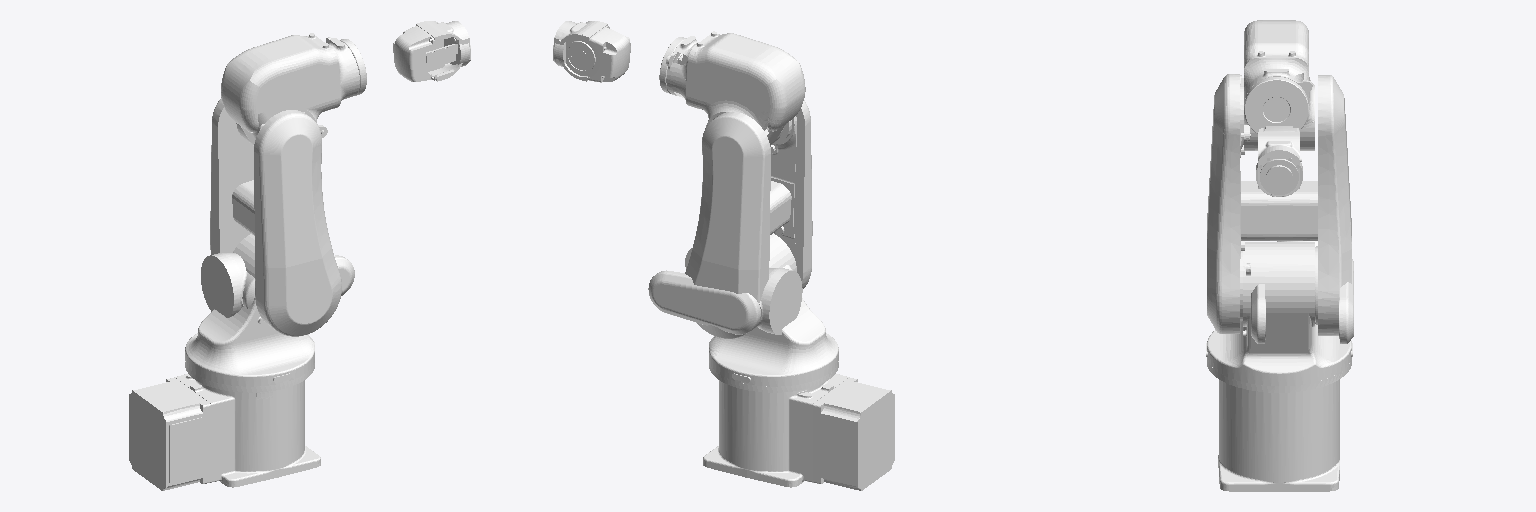
The robot description file, URDF, robot "er3":
<?xml version="1.0" ?>
<!-- =================================================================================== -->
<!-- |    This document was autogenerated by xacro from er3.xacro                      | -->
<!-- |    EDITING THIS FILE BY HAND IS NOT RECOMMENDED                                 | -->
<!-- =================================================================================== -->
<robot name="er3" xmlns:xacro="http://www.ros.org/wiki/xacro">
  <!-- Space btw top of beam and the each joint -->
  
#  
  <!-- Import Rviz colors -->
  <!-- Used for fixing robot to Gazebo 'base_link' -->
  <link name="world"/>
  <link name="camera_link">
    <collision>
      <origin rpy="0.0 0 0" xyz="0 0 0"/>
      <geometry>
        <cylinder length="0.0" radius="0.0"/>
      </geometry>
    </collision>
    <visual>
      <origin rpy="0.0 0 0" xyz="0 0 0"/>
      <geometry>
        <cylinder length="0.0" radius="0.0"/>
      </geometry>
    </visual>
    <inertial>
      <origin rpy="0 0 0" xyz="0 0 0"/>
      <mass value="0.1"/>
      <inertia ixx="1.0" ixy="0.0" ixz="0.0" iyy="1.0" iyz="0.0" izz="1.0"/>
    </inertial>
  </link>
  <joint name="joint_camera" type="fixed">
    <parent link="world"/>
    <child link="camera_link"/>
    <axis xyz="1 0 0"/>
    <origin rpy="0 0 0" xyz="-0.4 0 0.4"/>
  </joint>
  <joint name="joint_base" type="fixed">
    <parent link="world"/>
    <child link="link_base"/>
    <origin rpy="0 0 0" xyz="0 0 0.0"/>
  </joint>
  <!-- Link base-->
  <link name="link_base">
    <collision>
      <origin rpy="0.0 0 0" xyz="0 0 0"/>
      <geometry>
        <cylinder length="0.0" radius="0.0"/>
      </geometry>
    </collision>
    <visual>
      <origin rpy="0.0 0 0" xyz="-0.02488 0.020461 -0.18407"/>
      <geometry>
        <mesh filename="package://er3_description/mesh/base.dae"/>
      </geometry>
    </visual>
    <inertial>
      <origin rpy="0 0 0" xyz="0 0 0"/>
      <mass value="0.1"/>
      <inertia ixx="1.0" ixy="0.0" ixz="0.0" iyy="1.0" iyz="0.0" izz="1.0"/>
    </inertial>
  </link>
  <joint name="joint_1" type="revolute">
    <parent link="link_base"/>
    <child link="link_1"/>
    <axis xyz="0 0 1"/>
    <origin rpy="0 0 0" xyz="0 0 0.0"/>
    <dynamics damping="0.7"/>
    <limit effort="1000.0" lower="-2.9147" upper="2.9147" velocity="0.1"/>
  </joint>
  <!-- Link 1-->
  <link name="link_1">
    <collision>
      <origin rpy="0.0 0 0" xyz="0 0 0"/>
      <geometry>
        <cylinder length="0.0" radius="0.0"/>
      </geometry>
    </collision>
    <visual>
      <origin rpy="0.0 0 0" xyz="-0.02488 0.020461 -0.18407"/>
      <geometry>
        <mesh filename="package://er3_description/mesh/1_axis.dae"/>
      </geometry>
    </visual>
    <inertial>
      <origin rpy="0 0 0" xyz="0 0 0.0"/>
      <mass value="0.1"/>
      <inertia ixx="1.0" ixy="0.0" ixz="0.0" iyy="1.0" iyz="0.0" izz="1.0"/>
    </inertial>
  </link>
  <!-- Joint 2-->
  <joint name="joint_2" type="revolute">
    <parent link="link_1"/>
    <child link="link_2"/>
    <origin rpy="-1.57079632679 0 0" xyz="0.05 0 0.3215"/>
    <axis xyz="0 0 1"/>
    <dynamics damping="0.7"/>
    <limit effort="1000.0" lower="-2.2689" upper="1.5707963267948966192313216916398" velocity="0.1"/>
  </joint>
  <!-- Link 2-->
  <link name="link_2">
    <collision>
      <origin rpy="0.0 0 0" xyz="0 0 0"/>
      <geometry>
        <cylinder length="0.0" radius="0.0"/>
      </geometry>
    </collision>
    <visual>
      <origin rpy="1.57079632679 0 0" xyz="-0.07351 0.50557 0.019211"/>
      <geometry>
        <mesh filename="package://er3_description/mesh/2_axis.dae"/>
      </geometry>
    </visual>
    <inertial>
      <origin rpy="0 0 0" xyz="0 -0.12 0"/>
      <mass value="0.1"/>
      <inertia ixx="1.0" ixy="0.0" ixz="0.0" iyy="1.0" iyz="0.0" izz="1.0"/>
    </inertial>
  </link>
  <!-- Joint 3-->
  <joint name="joint_3" type="revolute">
    <parent link="link_2"/>
    <child link="link_3"/>
    <origin rpy="0 0 -1.57079632679" xyz="0 -0.27 0"/>
    <axis xyz="0 0 1"/>
    <dynamics damping="0.7"/>
    <limit effort="1000.0" lower="-1.3090" upper="1.832595714594046055769875306913" velocity="0.1"/>
  </joint>
  <!-- Link 3-->
  <link name="link_3">
    <collision>
      <origin rpy="0.0 0 0" xyz="0 0 0"/>
      <geometry>
        <cylinder length="0.0" radius="0.0"/>
      </geometry>
    </collision>
    <visual>
      <origin rpy="1.57079632679 0 1.57079632679" xyz="-0.77346 -0.054782 0.014961"/>
      <geometry>
        <mesh filename="package://er3_description/mesh/3_axis.dae"/>
      </geometry>
    </visual>
    <inertial>
      <origin rpy="0 0 0" xyz="0 0 0"/>
      <mass value="0.1"/>
      <inertia ixx="1.0" ixy="0.0" ixz="0.0" iyy="1.0" iyz="0.0" izz="1.0"/>
    </inertial>
  </link>
  <!-- Joint 4-->
  <joint name="joint_4" type="revolute">
    <parent link="link_3"/>
    <child link="link_4"/>
    <origin rpy="1.57079632679 0 0" xyz="0.07 0.299 0"/>
    <axis xyz="0 0 1"/>
    <dynamics damping="0.7"/>
    <limit effort="1000.0" lower="-3.1415926535897932384626433832795" upper="3.1415926535897932384626433832795" velocity="0.1"/>
  </joint>
  <!-- Link 4-->
  <link name="link_4">
    <collision>
      <origin rpy="0.0 0 0" xyz="0 0 0"/>
      <geometry>
        <cylinder length="0.0" radius="0.0"/>
      </geometry>
    </collision>
    <visual>
      <origin rpy="0.0 1.5708 0" xyz="-0.870 0.034255 0.473982"/>
      <geometry>
        <mesh filename="package://er3_description/mesh/4_axis.dae"/>
      </geometry>
    </visual>
    <inertial>
      <origin rpy="0 0 0" xyz="0 0 0.135"/>
      <mass value="0.1"/>
      <inertia ixx="1.0" ixy="0.0" ixz="0.0" iyy="1.0" iyz="0.0" izz="1.0"/>
    </inertial>
  </link>
  <!-- Joint 5-->
  <joint name="joint_5" type="revolute">
    <parent link="link_4"/>
    <child link="link_5"/>
    <axis xyz="0 0 1"/>
    <dynamics damping="0.7"/>
    <origin rpy="1.57079632679 0 0" xyz="0 0 0.0"/>
    <limit effort="1000.0" lower="-1.9199" upper="1.9199" velocity="0.1"/>
  </joint>
  <!-- Link 5-->
  <link name="link_5">
    <collision>
      <origin rpy="0.0 0 0" xyz="0 0 0"/>
      <geometry>
        <cylinder length="0.0" radius="0.0"/>
      </geometry>
    </collision>
    <visual>
      <origin rpy="-1.57079632679 0 -1.57079632679" xyz="-0.86313 0.347386 -0.01926"/>
      <geometry>
        <mesh filename="package://er3_description/mesh/5_axis.dae"/>
      </geometry>
    </visual>
    <inertial>
      <origin rpy="0 0 0" xyz="0 0 0"/>
      <mass value="0.1"/>
      <inertia ixx="1.0" ixy="0.0" ixz="0.0" iyy="1.0" iyz="0.0" izz="1.0"/>
    </inertial>
  </link>
  <!-- Joint 6-->
  <joint name="joint_6" type="revolute">
    <parent link="link_5"/>
    <child link="link_6"/>
    <axis xyz="0 0 1"/>
    <dynamics damping="0.7"/>
    <origin rpy="1.57079632679 0 0" xyz="0 0 0.0"/>
    <limit effort="1000.0" lower="-6.283185307180000123139507" upper="6.283185307180000123139507" velocity="0.1"/>
  </joint>
  <!-- Link 6-->
  <link name="link_6">
    <collision>
      <origin rpy="0.0 0 0" xyz="0 0 0"/>
      <geometry>
        <cylinder length="0.0" radius="0.0"/>
      </geometry>
    </collision>
    <visual>
      <origin rpy="0.0 -1.5041 0.0" xyz="0.83608 0.01926 -0.425 "/>
      <geometry>
        <mesh filename="package://er3_description/mesh/6_axis.dae"/>
      </geometry>
    </visual>
    <inertial>
      <origin rpy="0 0 0" xyz="0 0 0.09"/>
      <mass value="0.1"/>
      <inertia ixx="1.0" ixy="0.0" ixz="0.0" iyy="1.0" iyz="0.0" izz="1.0"/>
    </inertial>
  </link>
  <!-- Joint 7-->
  <joint name="joint_7" type="fixed">
    <parent link="link_6"/>
    <child link="link_end"/>
    <axis xyz="0 0 1"/>
    <origin rpy="0 0 0" xyz="0 0 0"/>
  </joint>
  <!-- Link end-->
  <link name="link_end">
    <collision>
      <origin rpy="0.0 0 0" xyz="0 0 0"/>
      <geometry>
        <cylinder length="0.0" radius="0.0"/>
      </geometry>
    </collision>
  </link>
</robot>

--- Facts derived from the render (not from the file) ---
Views: 3 orthographic renders of the robot side by side, from view 1: azimuth 30°, elevation 25°; view 2: azimuth 150°, elevation 25°; view 3: azimuth 270°, elevation 25°.
Model er3 with 10 links and 9 joints (6 revolute, 3 fixed), rooted at world, posed every joint at zero.
Visible links, largest first — view 1: link_2, link_base, link_3, link_1, link_5, link_4; view 2: link_2, link_base, link_3, link_1, link_4, link_5; view 3: link_2, link_base, link_1, link_3, link_4, link_5, link_6.
Link boxes in pixels (box(x1,y1,x2,y2)): link_2: box(210, 97, 341, 336); link_base: box(129, 361, 320, 490); link_3: box(221, 33, 366, 145); link_1: box(185, 234, 314, 386); link_5: box(393, 21, 470, 81); link_4: box(201, 253, 354, 317); link_2: box(685, 100, 812, 338); link_base: box(703, 361, 894, 490); link_3: box(659, 31, 805, 145); link_1: box(709, 233, 838, 386); link_4: box(648, 248, 802, 334); link_5: box(553, 21, 630, 82); link_2: box(1207, 74, 1351, 335); link_base: box(1207, 359, 1351, 491); link_1: box(1206, 242, 1352, 385); link_3: box(1241, 20, 1314, 150); link_4: box(1251, 241, 1353, 343); link_5: box(1258, 126, 1301, 196); link_6: box(1256, 158, 1302, 196).
Size in the robot's own frame: 0.8098 by 0.2198 by 0.737 metres.
7 mesh visuals loaded from 7 distinct referenced files (7 Collada DAE).